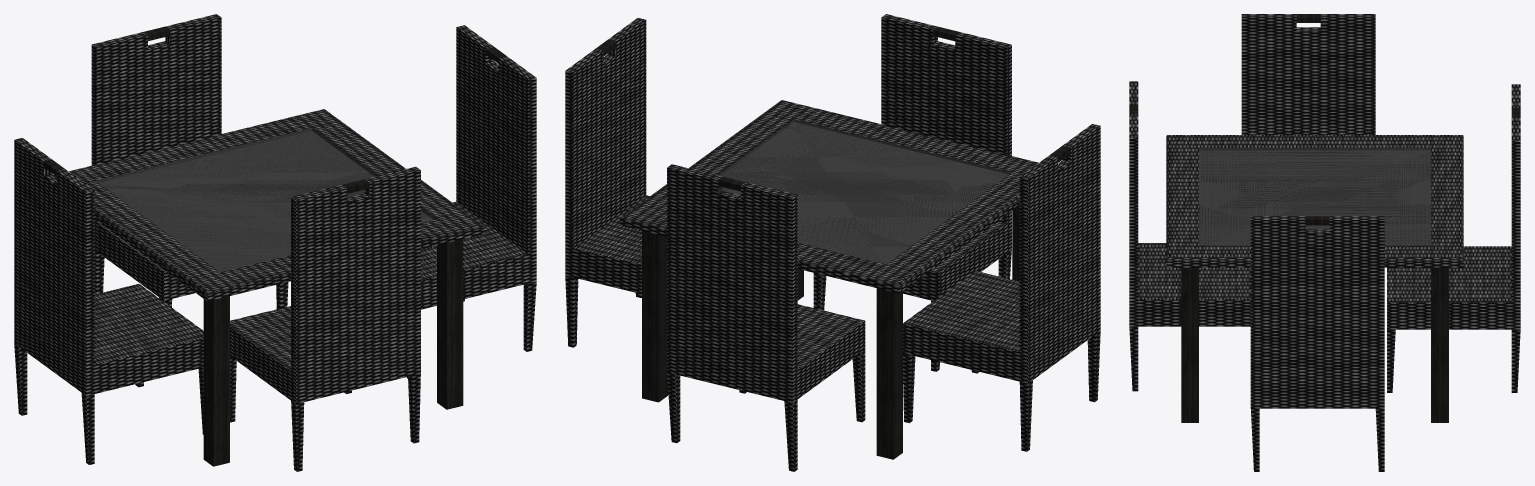
File: dining furniture 2.dae
3 renders of one model, left to right at view 1: azimuth 30°, elevation 25°; view 2: azimuth 150°, elevation 25°; view 3: azimuth 270°, elevation 25°, orthographic. The views are drawn at different scales.
Parts seen in each view (by area): view 1: group_10 (×2), group_0, group_21, group_11, group_16, group_5, group_15, group_14, group_18, group_24, group_2, group_23 (+1 smaller); view 2: group_10 (×2), group_5, group_21, group_11, group_16, group_0, group_12, group_13, group_7, group_8, group_19, group_9 (+4 smaller); view 3: group_10 (×2), group_16, group_11, group_21, group_5, group_0, group_13, group_14, group_3, group_7, group_19, group_18 (+1 smaller).
Boxes of the visible parts, box(x1,y1,x2,y2) form: group_10 (×2): box(54, 109, 485, 301); group_0: box(230, 166, 420, 403); group_21: box(14, 138, 203, 395); group_11: box(96, 128, 436, 272); group_16: box(421, 25, 536, 309); group_5: box(91, 14, 221, 300); group_15: box(203, 296, 229, 466); group_14: box(437, 239, 463, 409); group_18: box(523, 281, 536, 351); group_24: box(81, 393, 94, 464); group_2: box(291, 401, 304, 471); group_23: box(14, 343, 27, 415); group_10 (×2): box(620, 100, 1038, 293); group_5: box(667, 164, 865, 402); group_21: box(903, 124, 1100, 383); group_11: box(718, 119, 1011, 264); group_16: box(565, 18, 649, 293); group_0: box(881, 14, 1011, 300); group_12: box(876, 288, 902, 459); group_13: box(642, 231, 668, 402); group_7: box(667, 372, 680, 443); group_8: box(784, 399, 797, 471); group_19: box(565, 275, 578, 347); group_9: box(852, 350, 865, 422); group_10 (×2): box(1166, 135, 1463, 267); group_16: box(1250, 216, 1384, 408); group_11: box(1199, 147, 1430, 245); group_21: box(1241, 14, 1375, 134); group_5: box(1387, 84, 1520, 329); group_0: box(1129, 81, 1250, 326); group_13: box(1431, 267, 1448, 422); group_14: box(1181, 267, 1198, 422); group_3: box(1129, 326, 1138, 391); group_7: box(1511, 329, 1520, 392); group_19: box(1375, 408, 1384, 471); group_18: box(1251, 408, 1259, 471).
Size of the model in its own units: 64.53 by 51.81 by 37.01.
Materials: 5 (3 with a texture image).
